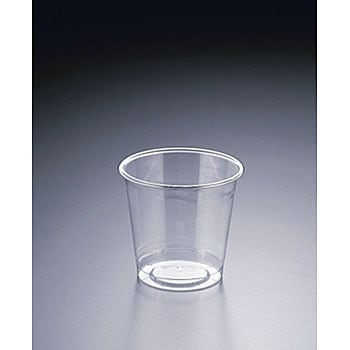plastic_bottle: (115, 145, 248, 295)
